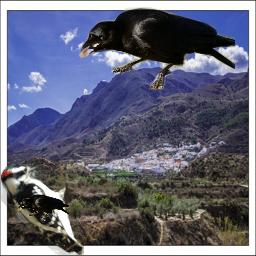Crow: (78, 7, 235, 90), (17, 194, 69, 221)
Woodpecker: (1, 164, 84, 255)
